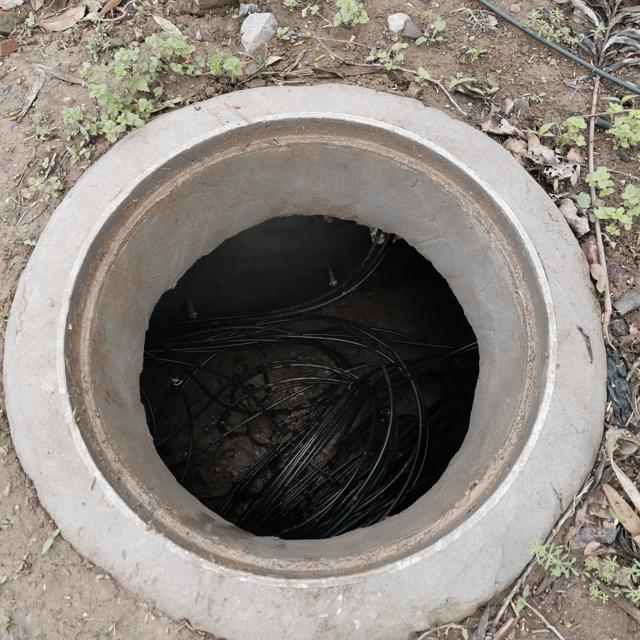lose: (90, 92, 584, 579)
